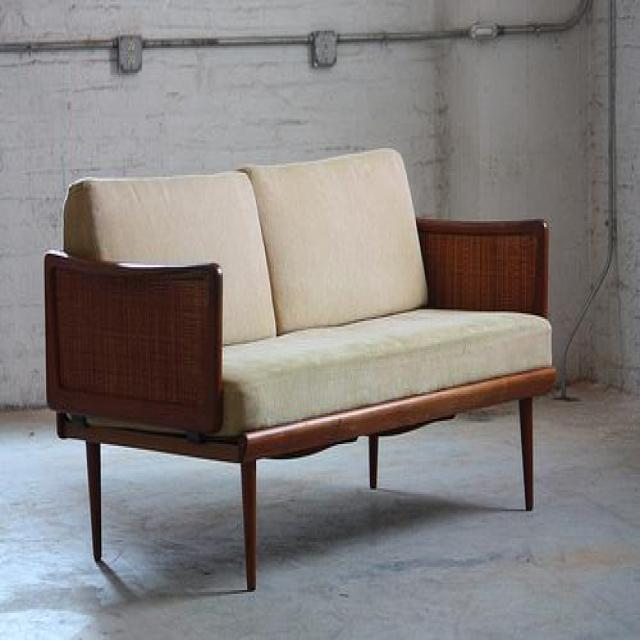sofa: (41, 144, 558, 600)
